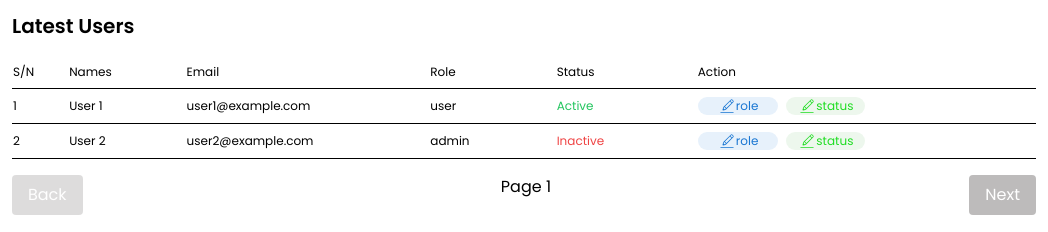
it: UsersTable › should handle pagination
The width and height of the screenshot is (1048, 232).
Check: the text "User 1" is shown, box 53,88 -> 186,124
Check: the text "User 2" is shown, box 53,124 -> 186,158
What coordinates should you click on to do the following:
click the button "Next"
I would click on:
 (1003, 195)
Its box is 969,175 -> 1036,215.
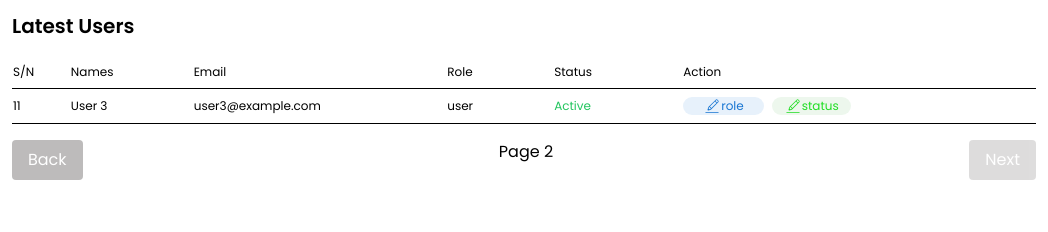
Check: the text "User 3" is shown, box 55,88 -> 193,124
What coordinates should you click on to do the following:
click the button "Back"
I would click on:
 (47, 160)
Its box is 12,140 -> 83,180.
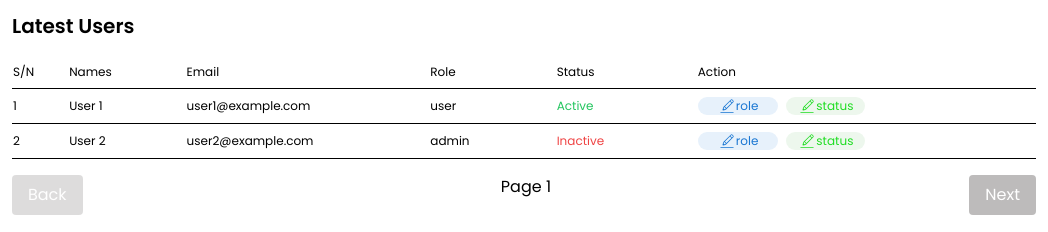
Check: the text "User 1" is shown, box 53,88 -> 186,124
Check: the text "User 2" is shown, box 53,124 -> 186,158
